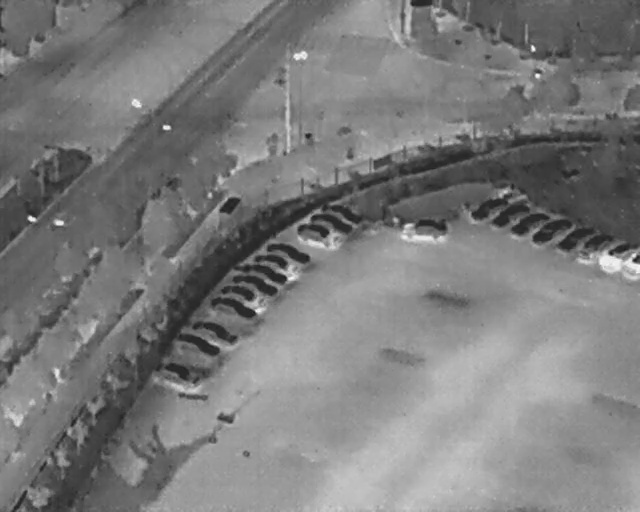Car: (528, 208, 576, 252), (592, 233, 639, 277), (571, 224, 617, 268), (154, 355, 204, 392), (188, 313, 240, 347), (208, 290, 260, 324), (553, 218, 597, 258), (237, 256, 290, 289), (229, 267, 279, 299), (173, 327, 221, 360), (307, 206, 355, 239), (293, 218, 339, 252), (489, 195, 530, 233), (508, 205, 549, 243), (469, 188, 509, 226), (320, 198, 367, 229), (265, 237, 312, 266), (399, 219, 450, 245), (218, 277, 259, 304), (253, 248, 293, 275), (622, 250, 639, 281)
